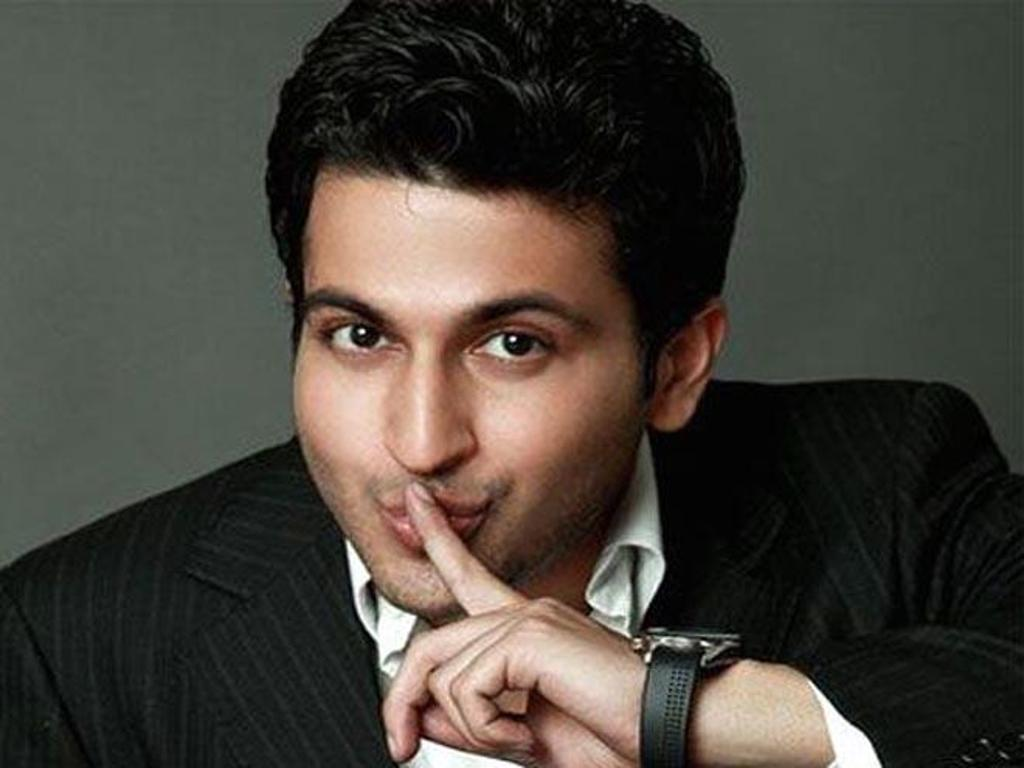face: (298, 164, 658, 604)
